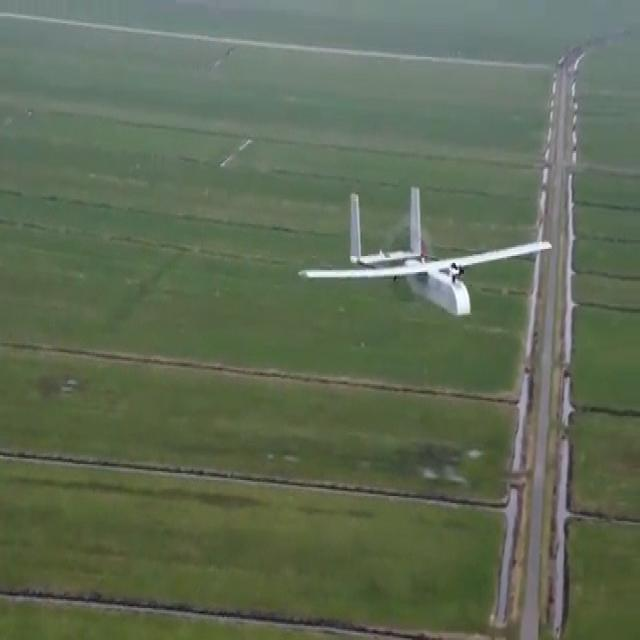iha: (299, 183, 555, 337)
